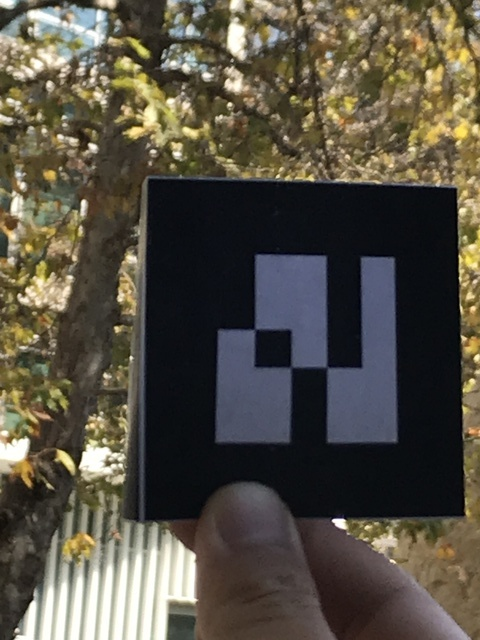ARTag: (122, 177, 468, 519)
